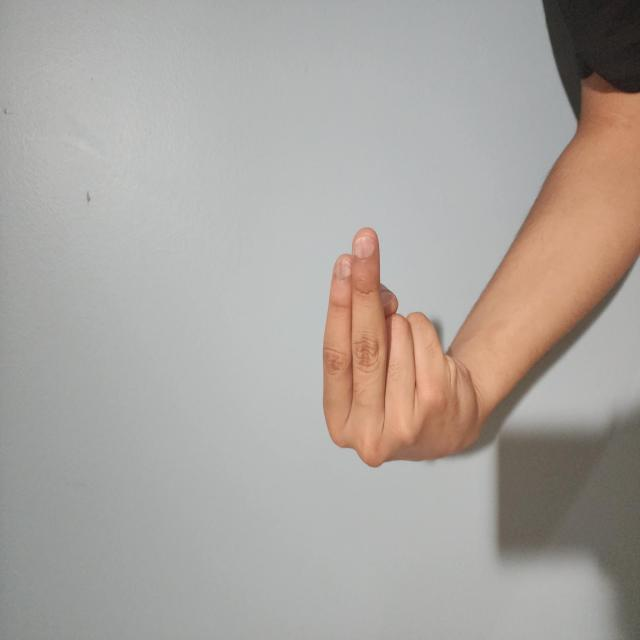H: (122, 422, 308, 640)
